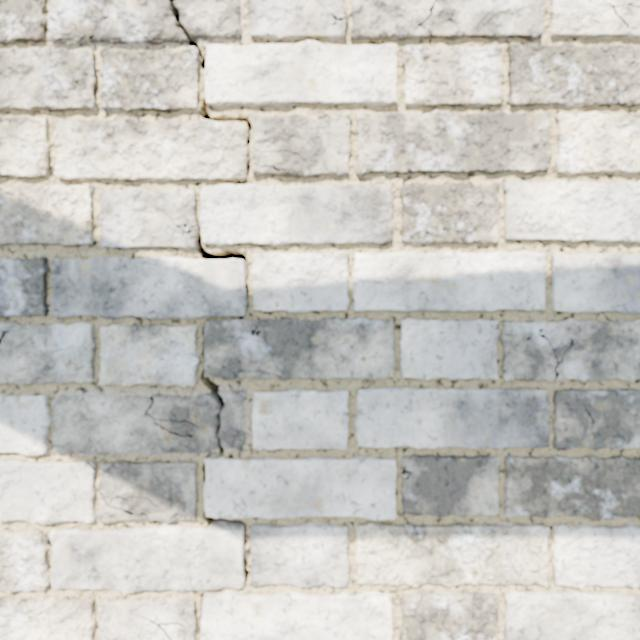broken_brick: (52, 393, 219, 454), (49, 0, 187, 45), (174, 0, 242, 39), (219, 390, 245, 448)
crack: (0, 0, 549, 639), (355, 110, 552, 176), (355, 387, 550, 448), (353, 251, 545, 311), (502, 454, 639, 520), (499, 319, 639, 381), (506, 43, 639, 107), (503, 180, 639, 242), (350, 0, 546, 41), (503, 590, 639, 639), (401, 42, 503, 107), (0, 459, 96, 524), (98, 460, 197, 523), (99, 324, 198, 387), (0, 47, 97, 111), (400, 182, 500, 244), (401, 454, 499, 517), (251, 251, 348, 312), (0, 322, 95, 384), (400, 319, 498, 379), (252, 388, 348, 449), (0, 184, 94, 245), (551, 524, 639, 588), (551, 252, 639, 313), (552, 389, 639, 450), (555, 111, 639, 174), (399, 591, 499, 639), (97, 597, 196, 639), (248, 0, 347, 42), (0, 596, 96, 639), (549, 0, 639, 40), (0, 394, 51, 455), (0, 115, 49, 177), (0, 257, 49, 318), (143, 396, 198, 437), (0, 0, 48, 45), (83, 0, 115, 44), (71, 22, 76, 30)
